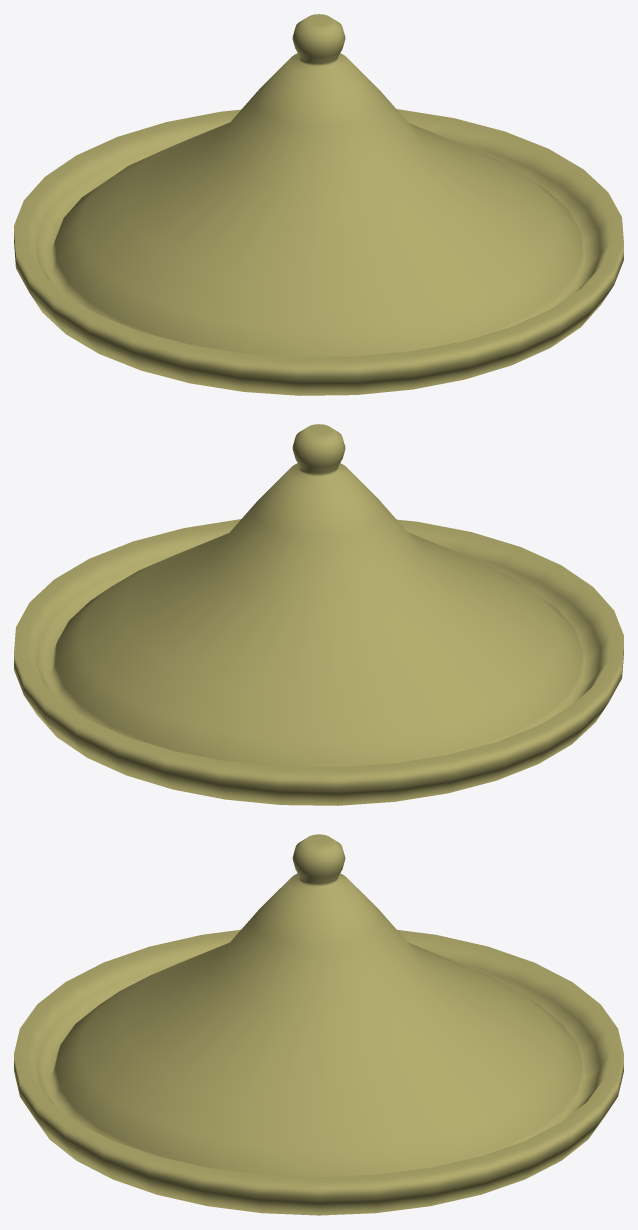
File: Sombreo.fbx
3 views of the same model, one above another, from view 1: azimuth 30°, elevation 25°; view 2: azimuth 150°, elevation 25°; view 3: azimuth 270°, elevation 25° (orthographic).
Visible parts, largest first — view 1: Cylinder; view 2: Cylinder; view 3: Cylinder.
Boxes of the visible parts, left/top/right/bottom form: Cylinder: left=14, top=14, right=623, bottom=395; Cylinder: left=14, top=424, right=623, bottom=805; Cylinder: left=14, top=834, right=623, bottom=1215.
Bounding box in the file's own units: 209 × 95.58 × 209.
